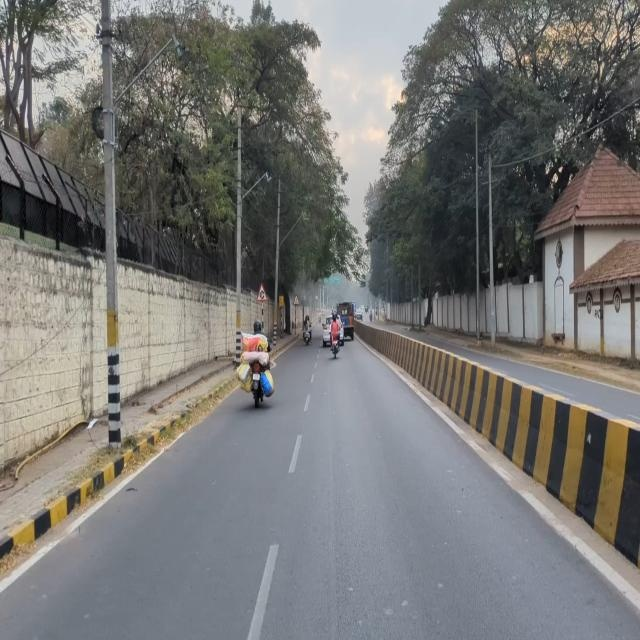bien_nguy_hiem: (256, 281, 268, 302), (293, 294, 299, 305)
